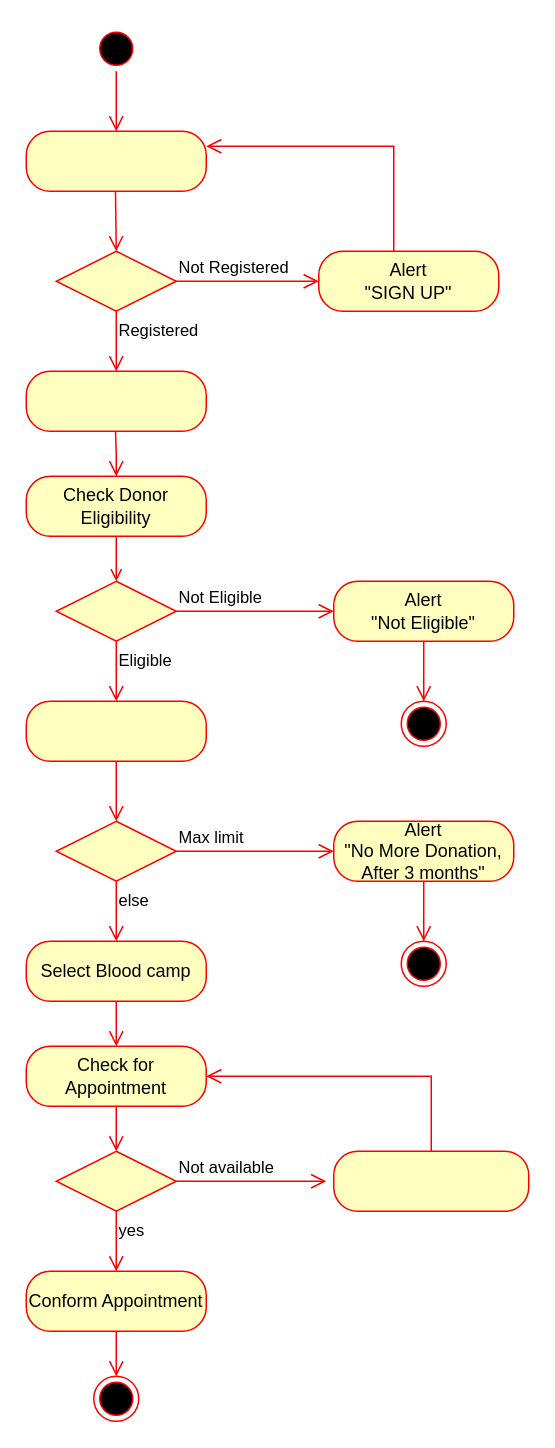
The diagram is 555 pixels wide and 1448 high, and some of its shapes have lost their labels. The shapes that lost their labels are listed below. From the top down, each one's centre as x and y in pixels, then its label:
(115,160): Check for Registration
(115,400): Login
(115,730): Check No. of Donations
(430,1180): Alert "Change Appointment"
